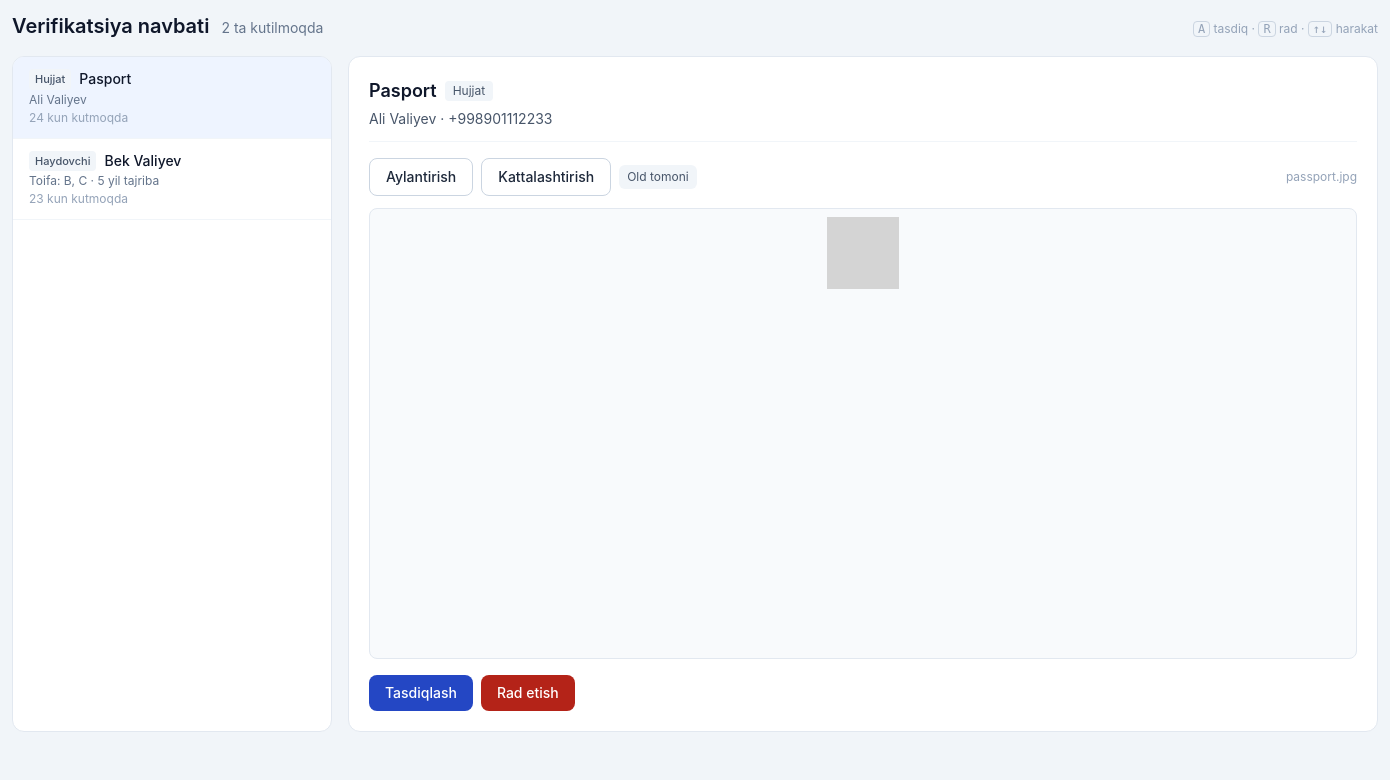
VerificationsPage › ★ TASDIQLASH TOʻGʻRI ENDPOINTGA KETADI VA KEYINGISI OCHILADI
Expected: the heading "Pasport" is shown, [369,77,437,105]
What coordinates should you click on to do the following:
click the button "Tasdiqlash"
I would click on:
 (421, 693)
Its box is [369,675,473,711].
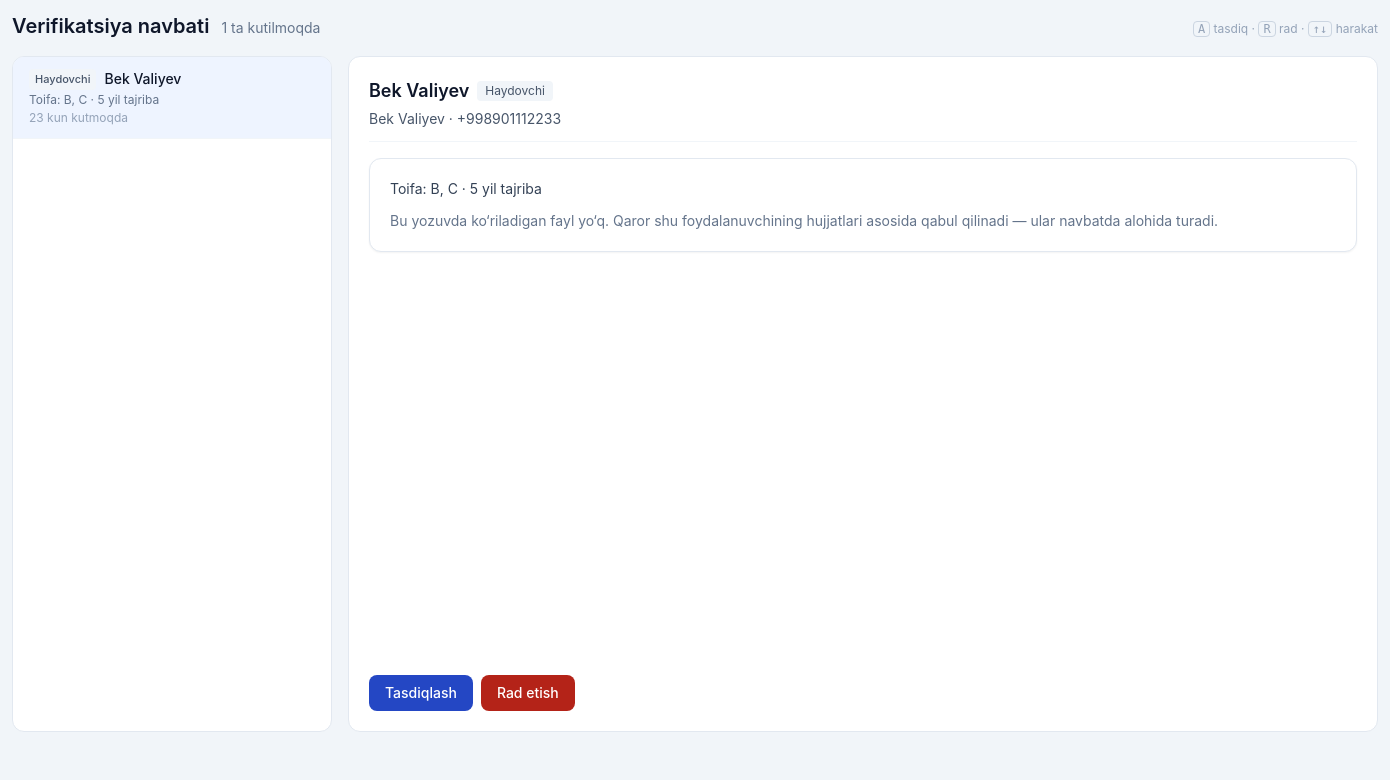
Expected: the heading "Bek Valiyev" is shown, [369,77,469,105]
Expected: the button "Pasport" is gone
